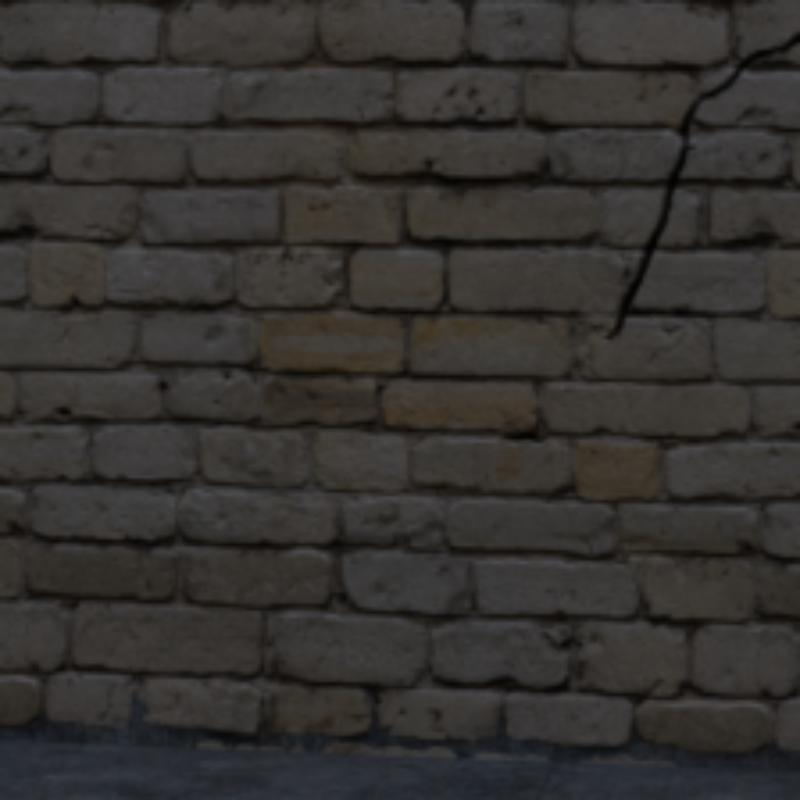crack: (607, 32, 796, 339)
